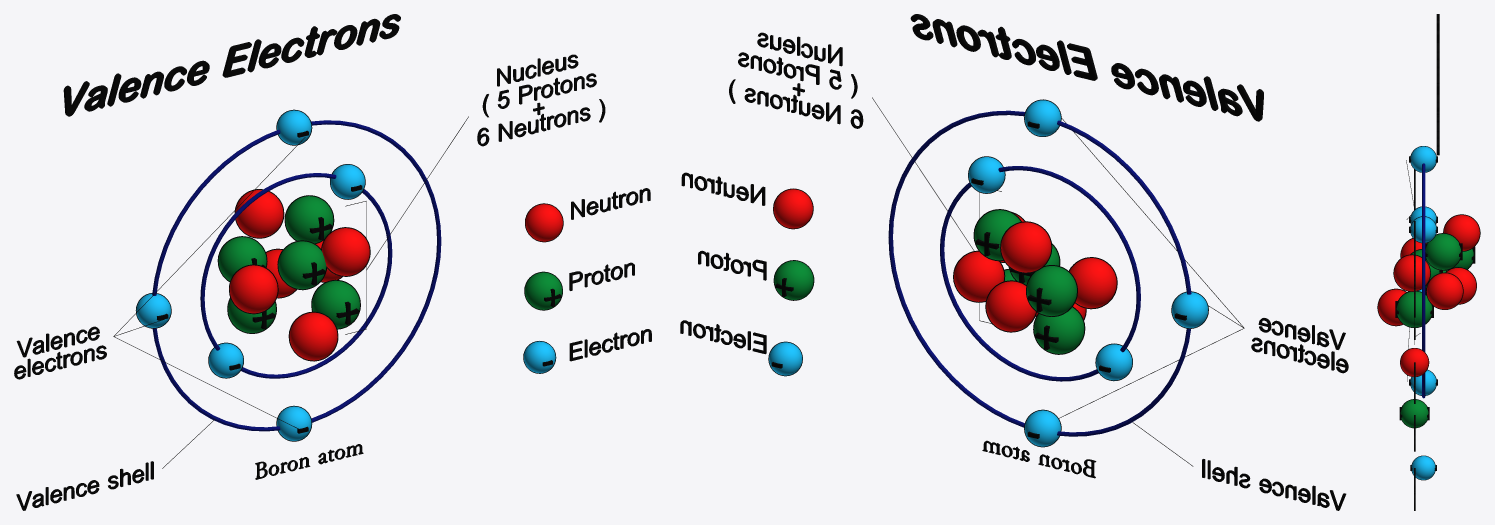
File: valence_electrons.glb
The picture shows the model from 3 angles, left to right: view 1: azimuth 30°, elevation 25°; view 2: azimuth 150°, elevation 25°; view 3: azimuth 270°, elevation 25°; orthographic projection. The views are drawn at different scales.
Parts seen in each view (by area): view 1: TextPlus001_black_0, Box011_red_0, Box035_green_0, Object001_m blue_0, Box023_b blue_0, Box010_black 2_0; view 2: TextPlus001_black_0, Box011_red_0, Object001_m blue_0, Box035_green_0, Box023_b blue_0, Box010_black 2_0; view 3: Box011_red_0, Box035_green_0, Box023_b blue_0, TextPlus001_black_0, Box010_black 2_0, Object001_m blue_0.
Boxes of the visible parts, x1,y1,x2,y2 form: TextPlus001_black_0: (14,14,651,510); Box011_red_0: (229,189,562,360); Box035_green_0: (218,196,562,332); Object001_m blue_0: (152,120,441,431); Box023_b blue_0: (136,110,555,440); Box010_black 2_0: (135,109,563,441); TextPlus001_black_0: (680,14,1348,510); Box011_red_0: (773,189,1116,331); Object001_m blue_0: (888,110,1191,436); Box035_green_0: (774,210,1084,353); Box023_b blue_0: (769,100,1208,446); Box010_black 2_0: (768,99,1208,447); Box011_red_0: (1378,215,1479,376); Box035_green_0: (1396,233,1473,427); Box023_b blue_0: (1410,146,1436,479); TextPlus001_black_0: (1395,14,1475,510); Box010_black 2_0: (1377,146,1480,480); Object001_m blue_0: (1422,163,1425,398).
Bounding box in the file's own units: 0.7669 × 0.488 × 0.143.
